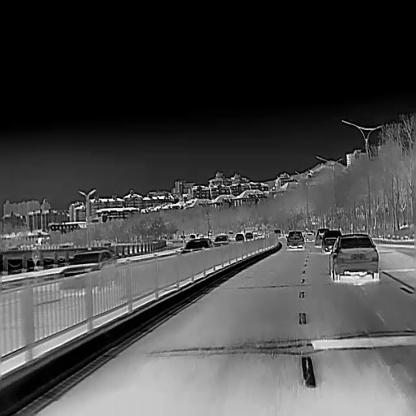car: (57, 249, 120, 293), (326, 233, 378, 281), (180, 237, 214, 255), (320, 229, 341, 254), (286, 230, 304, 249), (314, 228, 329, 246), (213, 234, 231, 246), (244, 230, 252, 239), (234, 233, 244, 240)
